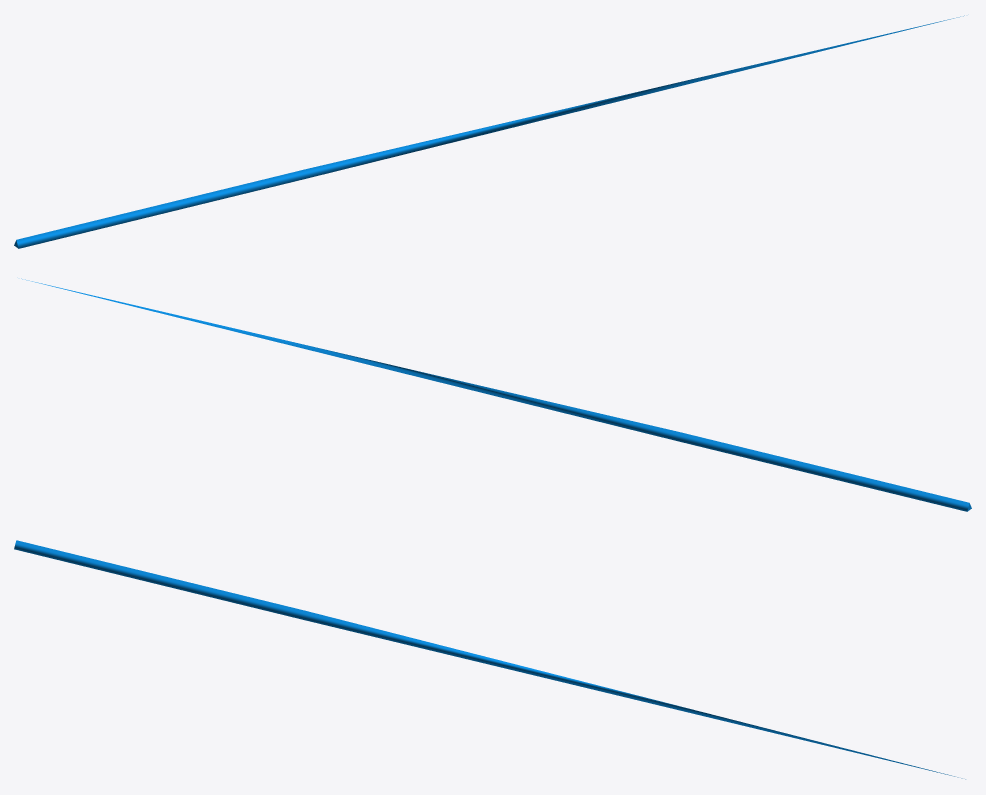
File: SM_NeonLine_0.fbx
3 views of the same model, one above another, from view 1: azimuth 30°, elevation 25°; view 2: azimuth 150°, elevation 25°; view 3: azimuth 330°, elevation 25° (orthographic).
Visible parts, largest first — view 1: pCylinder1; view 2: pCylinder1; view 3: pCylinder1.
Boxes of the visible parts, x1,y1,x2,y2 form: pCylinder1: [14, 15, 964, 248]; pCylinder1: [21, 278, 971, 511]; pCylinder1: [14, 540, 965, 779].
Bounding box in the file's own units: 198 × 1.48 × 1.69.
